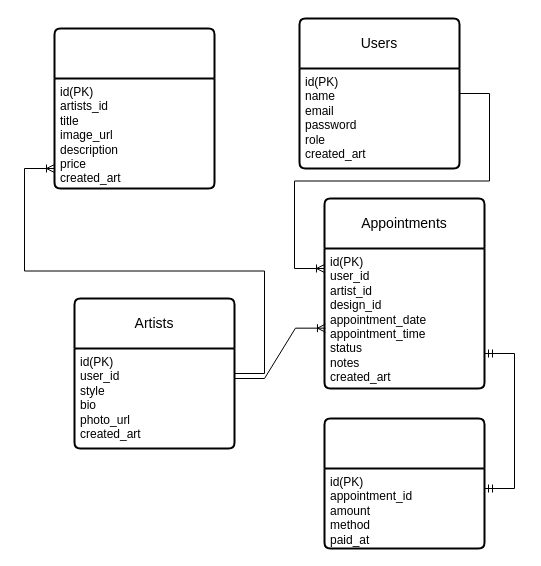
Some shapes in this 541 by 566 pixel diagram are drawn without their labels. Each missing label, with the box of its shape:
Payments: (323, 417, 485, 549)
Tattoo_Designs: (53, 27, 215, 189)
